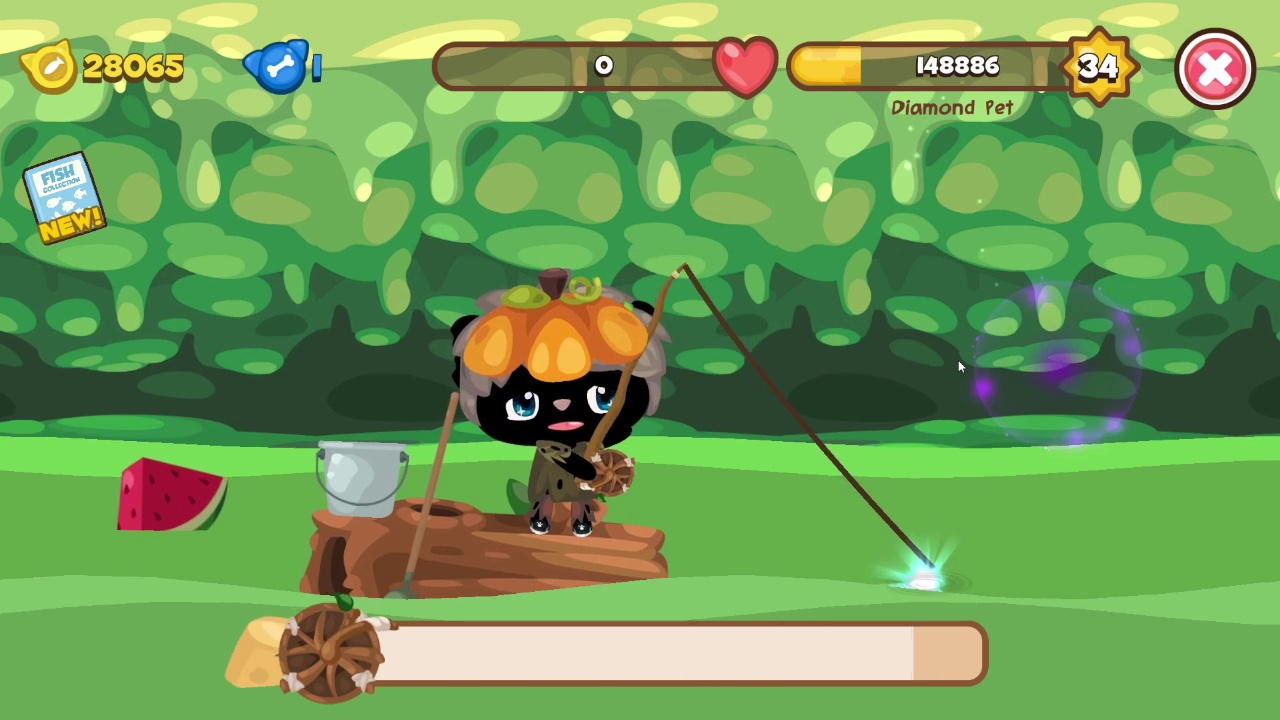point: (966, 282, 1144, 448)
